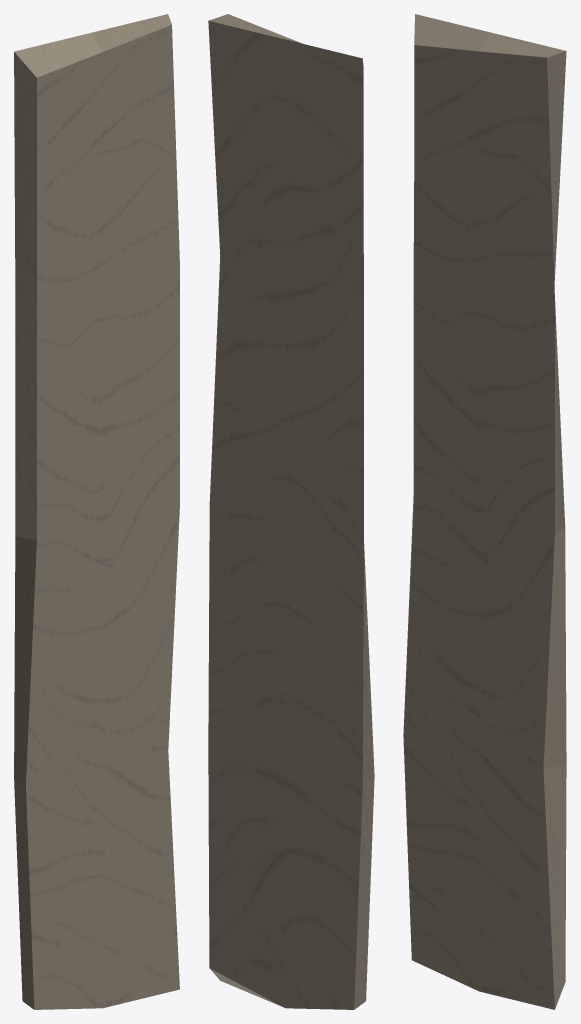
File: Tablon2.fbx
3 views of the same model, side by side, from view 1: azimuth 30°, elevation 25°; view 2: azimuth 150°, elevation 25°; view 3: azimuth 330°, elevation 25° (orthographic).
Parts seen in each view (by area): view 1: Cube.009; view 2: Cube.009; view 3: Cube.009.
Boxes of the visible parts, box(x1,y1,x2,y2) form: Cube.009: box(14, 14, 179, 1009); Cube.009: box(208, 14, 374, 1009); Cube.009: box(403, 14, 566, 1009).
Size of the model in its own units: 137 by 822 by 18.27.
